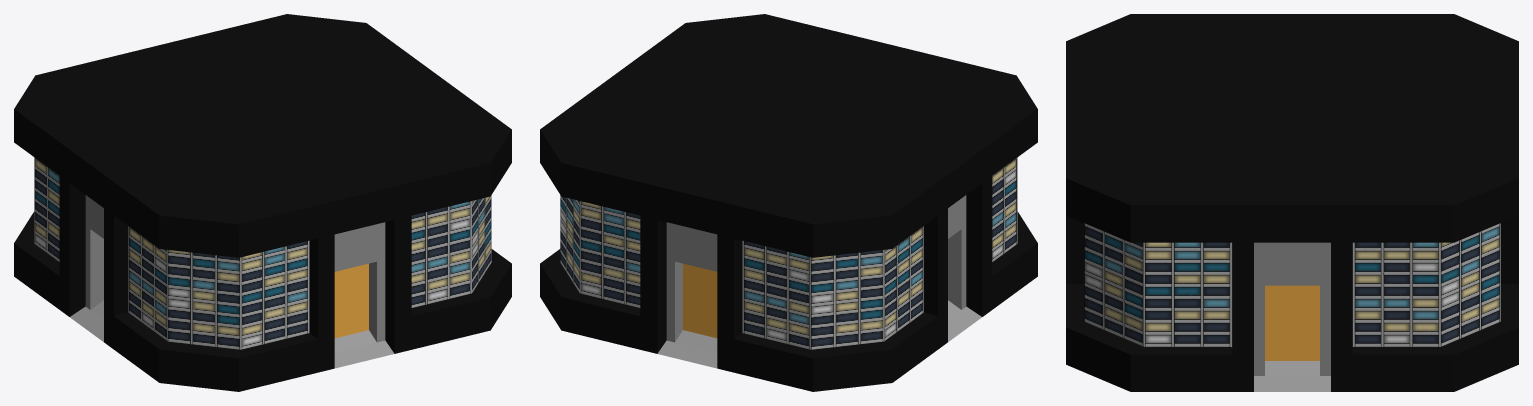
File: SM_BuildingBase.FBX
3 views of the same model, side by side, from view 1: azimuth 30°, elevation 25°; view 2: azimuth 150°, elevation 25°; view 3: azimuth 270°, elevation 25° (orthographic). The views are drawn at different scales.
Visible parts, largest first — view 1: Box007; view 2: Box007; view 3: Box007.
Boxes of the visible parts, left/top/right/bottom form: Box007: left=14, top=14, right=511, bottom=391; Box007: left=540, top=14, right=1037, bottom=391; Box007: left=1066, top=14, right=1518, bottom=391.
Size of the model in its own units: 4400 by 2000 by 4400.
4 materials, 1 textured.
